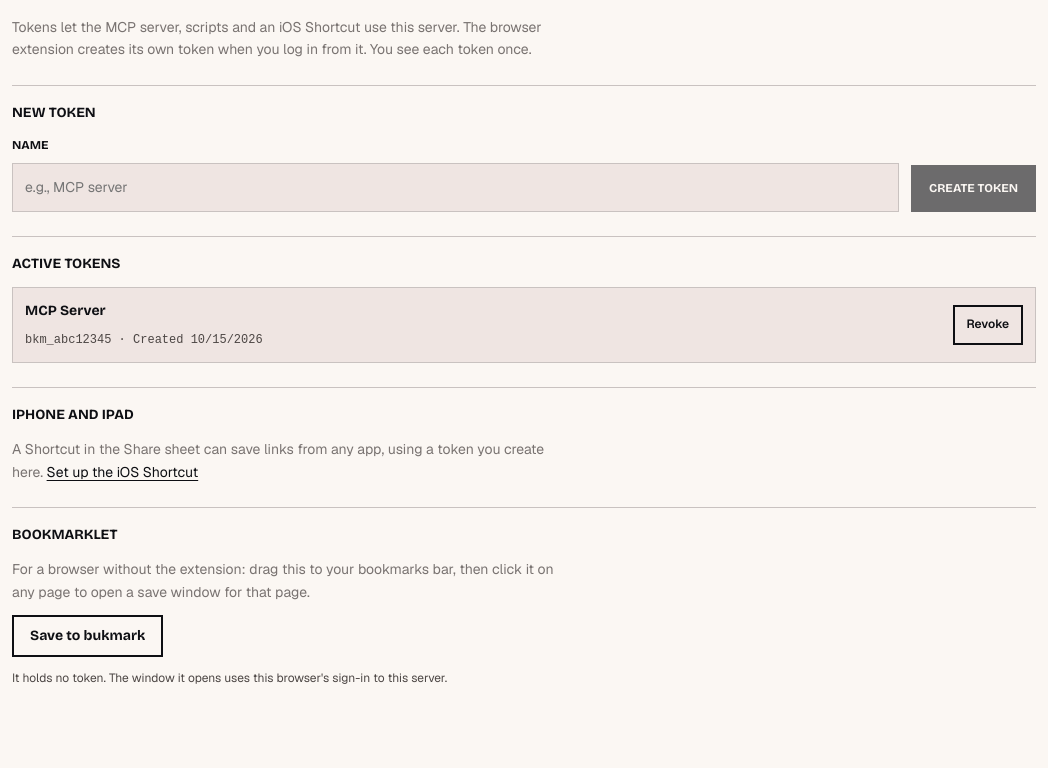
Test: TokensPage › revokes a token after confirmation, with focus starting on Cancel
This screenshot has width=1048, height=768.
Click the button with aria-label "Revoke MCP Server (bkm_abc12345)". click: [988, 325]
box: [952, 305, 1023, 344]
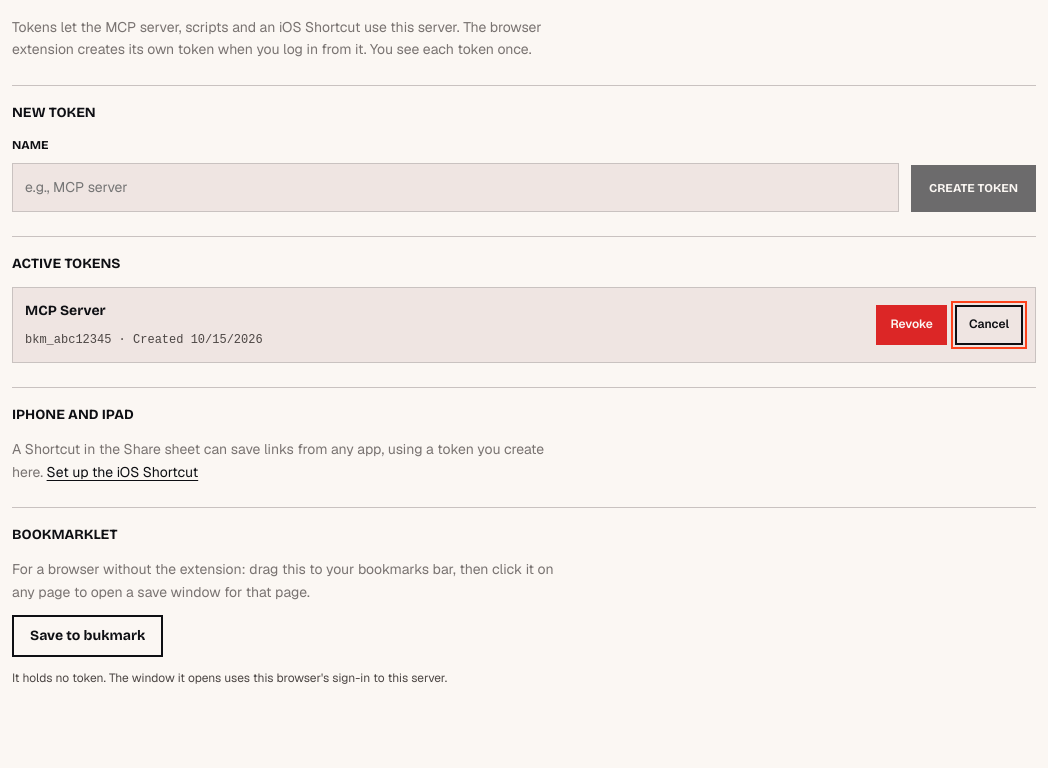
Click the button with aria-label "Revoke MCP Server (bkm_abc12345)". click: [912, 325]
box: [876, 305, 947, 344]
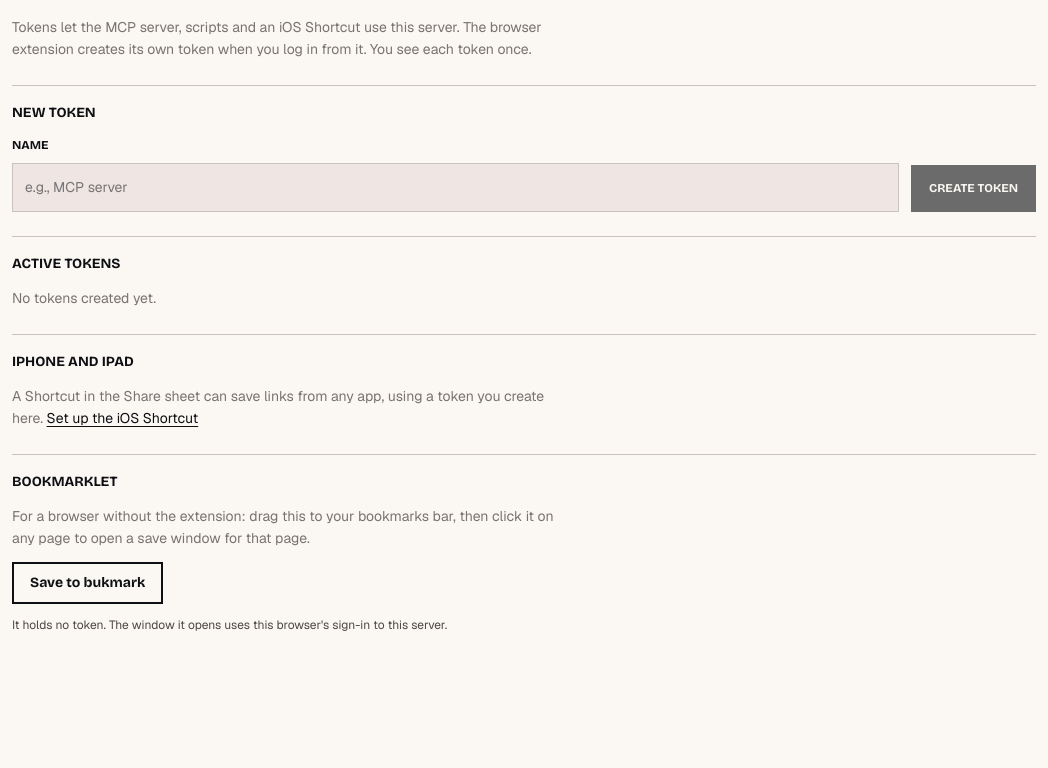
Result: the text "No tokens created yet." is shown at [12, 289, 156, 307]
